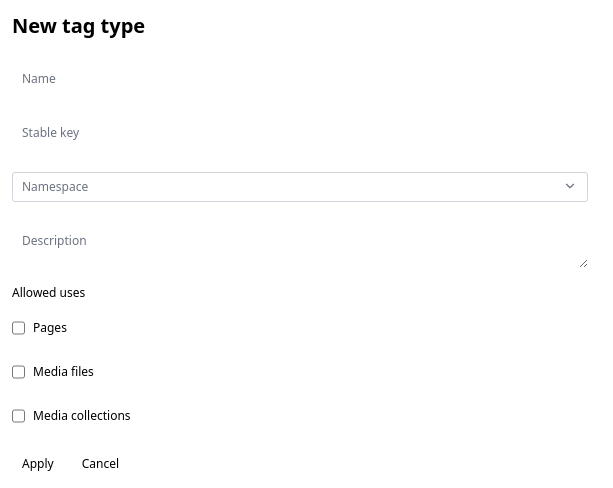
it: scoped tag type creation › keeps the global Tags namespace selector editable
Click the dropdown named "Namespace" at (570, 186), box [12,172,588,202]
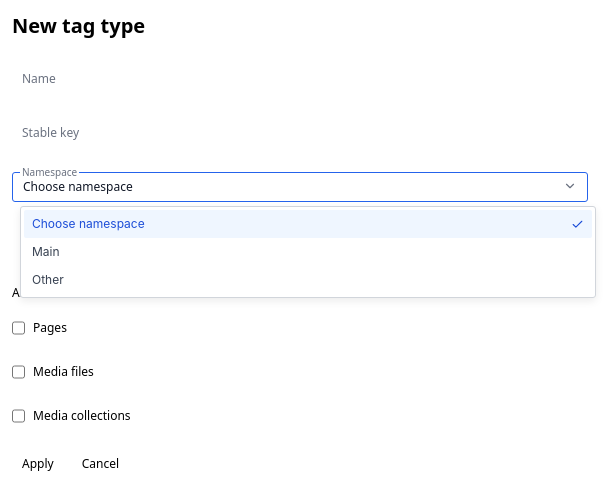
Expected: the option "Other" is shown, [32,272,64,287]
